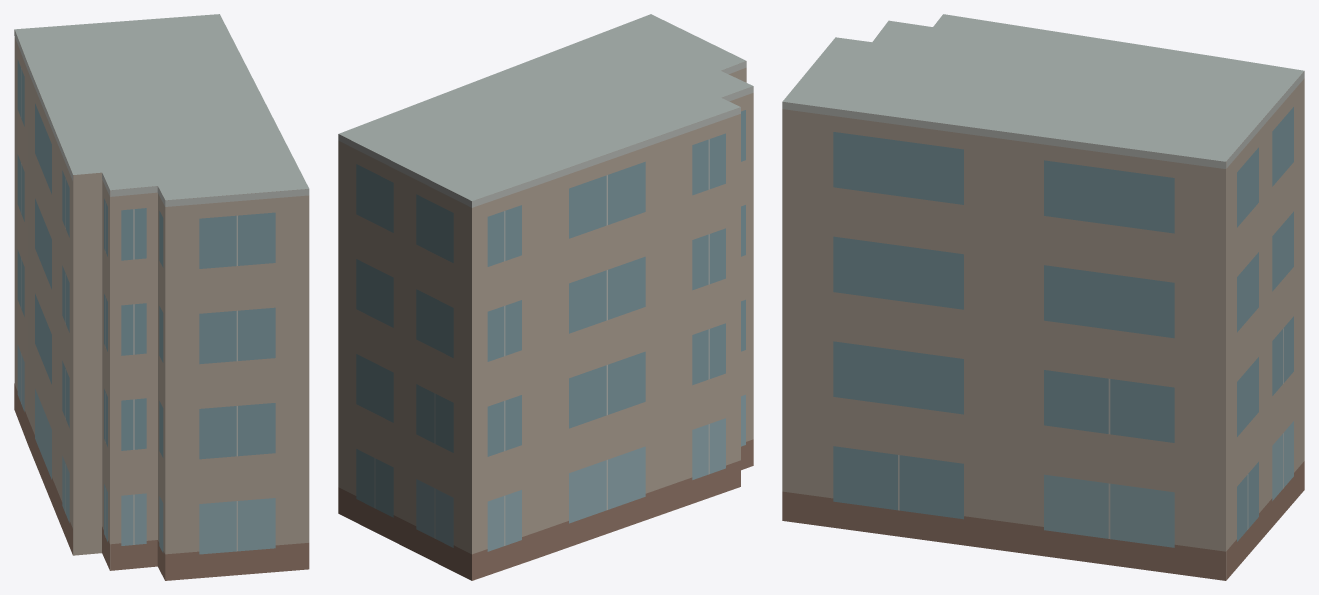
File: survey-upis-32851066.glb
The picture shows the model from 3 angles, left to right: view 1: azimuth 30°, elevation 25°; view 2: azimuth 150°, elevation 25°; view 3: azimuth 270°, elevation 25°; orthographic projection. The views are drawn at different scales.
Visible parts, largest first — view 1: survey-upis-32851066.tmp; view 2: survey-upis-32851066.tmp; view 3: survey-upis-32851066.tmp.
Boxes of the visible parts, left/top/right/bottom form: survey-upis-32851066.tmp: left=14, top=14, right=309, bottom=580; survey-upis-32851066.tmp: left=338, top=14, right=753, bottom=580; survey-upis-32851066.tmp: left=782, top=14, right=1304, bottom=580.
Bounding box in the file's own units: 10.52 × 13.9 × 15.71.
